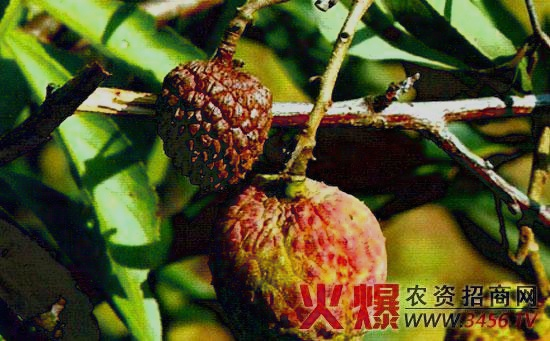Anthracnose: (161, 53, 269, 179), (250, 198, 397, 276)
